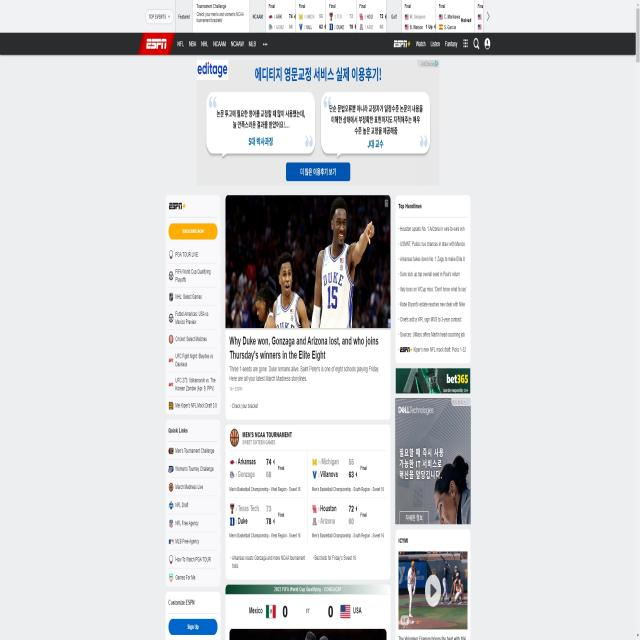menu-bar: (175, 36, 272, 56), (391, 32, 491, 50)
side-panel: (396, 195, 472, 640)
